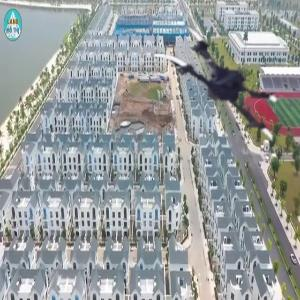drone: (140, 21, 287, 168)
